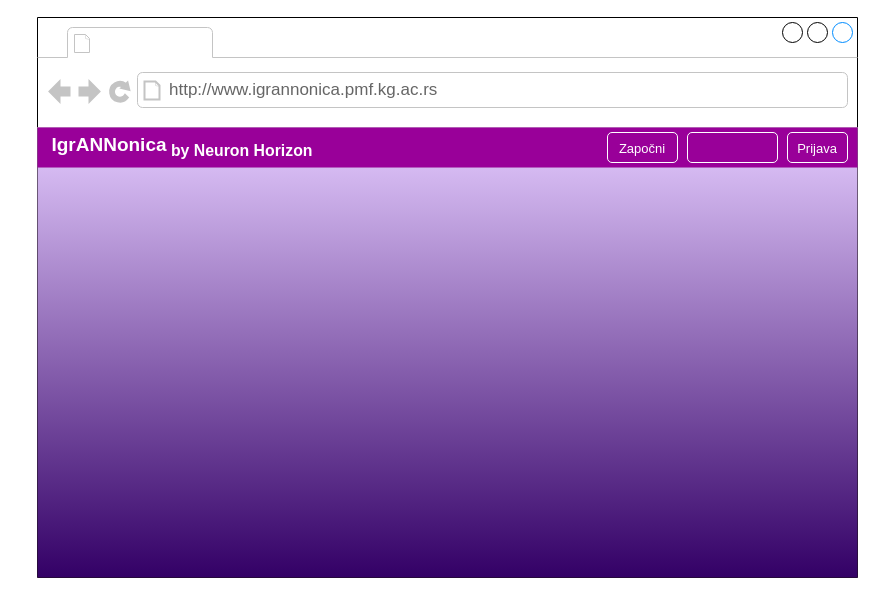
This 875x595 diagram has some shape labels left out. Here are the shapes that lost their labels. From the top down, the centre of each, then its label:
At pixel 152 42: "Početna".
At pixel 732 147: "Registracija".
